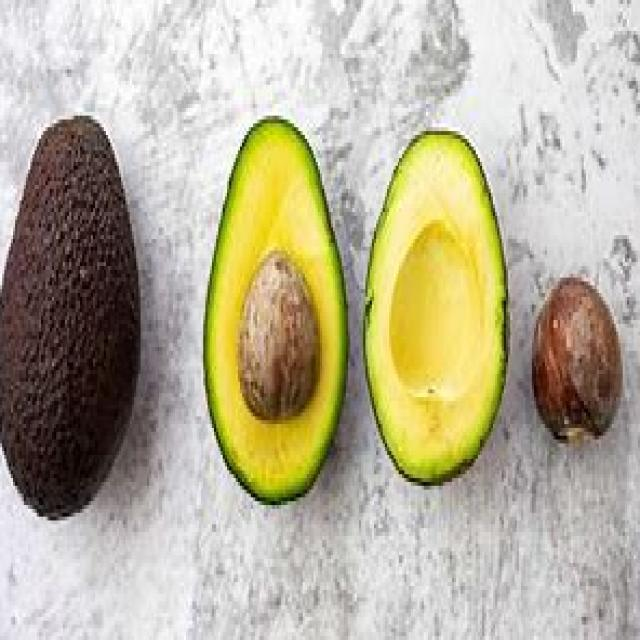avocado: (193, 115, 351, 501), (3, 108, 140, 530), (360, 128, 509, 488)
